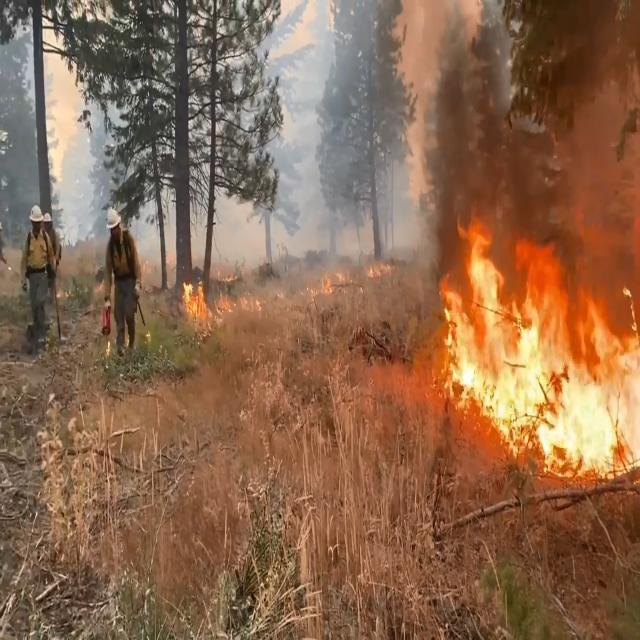Fire: (434, 190, 640, 486)
